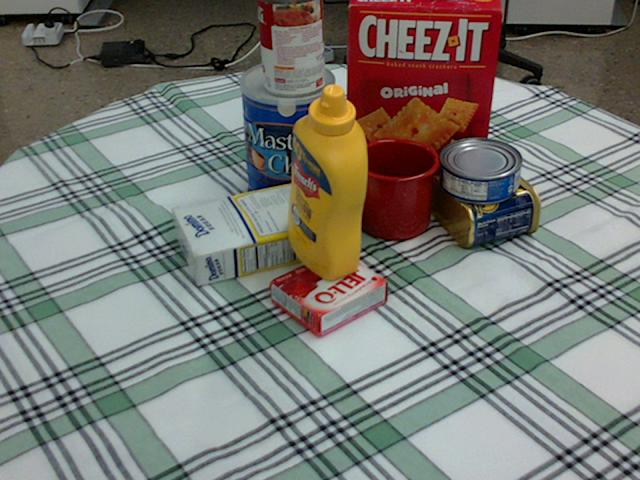cracker_box: (345, 0, 503, 185)
gelatin_box: (271, 249, 388, 337)
master_chef_can: (238, 60, 334, 213)
mug: (353, 136, 441, 239)
mustard_bottle: (287, 83, 366, 279)
potted_meat_can: (427, 152, 539, 243)
sugar_box: (169, 174, 357, 285)
tomato_soup_can: (257, 0, 324, 95)
tuna_fish_can: (439, 138, 521, 202)
